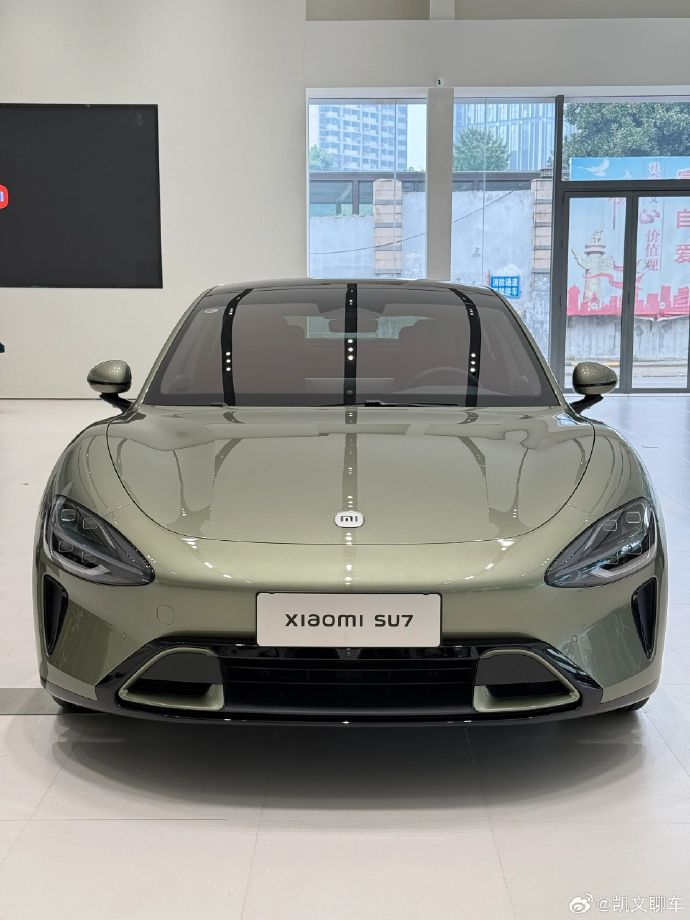su7: (39, 242, 662, 737)
